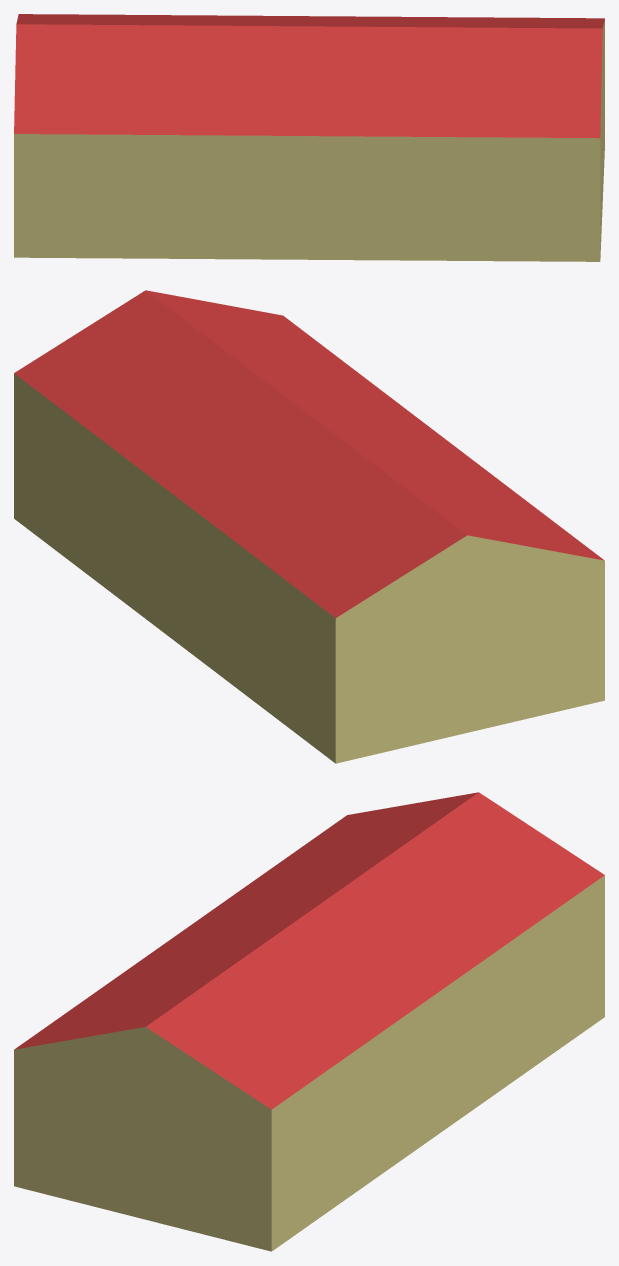
3 renders of one model, top to bottom at view 1: azimuth 30°, elevation 25°; view 2: azimuth 150°, elevation 25°; view 3: azimuth 270°, elevation 25°, orthographic. The views are drawn at different scales.
Visible parts, largest first — view 1: group_4, group_3; view 2: group_4, group_3; view 3: group_4, group_3.
Boxes of the visible parts, x1,y1,x2,y2 form: group_4: (14,19,604,261); group_3: (14,14,604,138); group_4: (14,373,604,763); group_3: (14,290,604,617); group_4: (14,875,604,1251); group_3: (14,792,604,1109).
Bounding box in the file's own units: 24.42 × 20.33 × 7.32.
